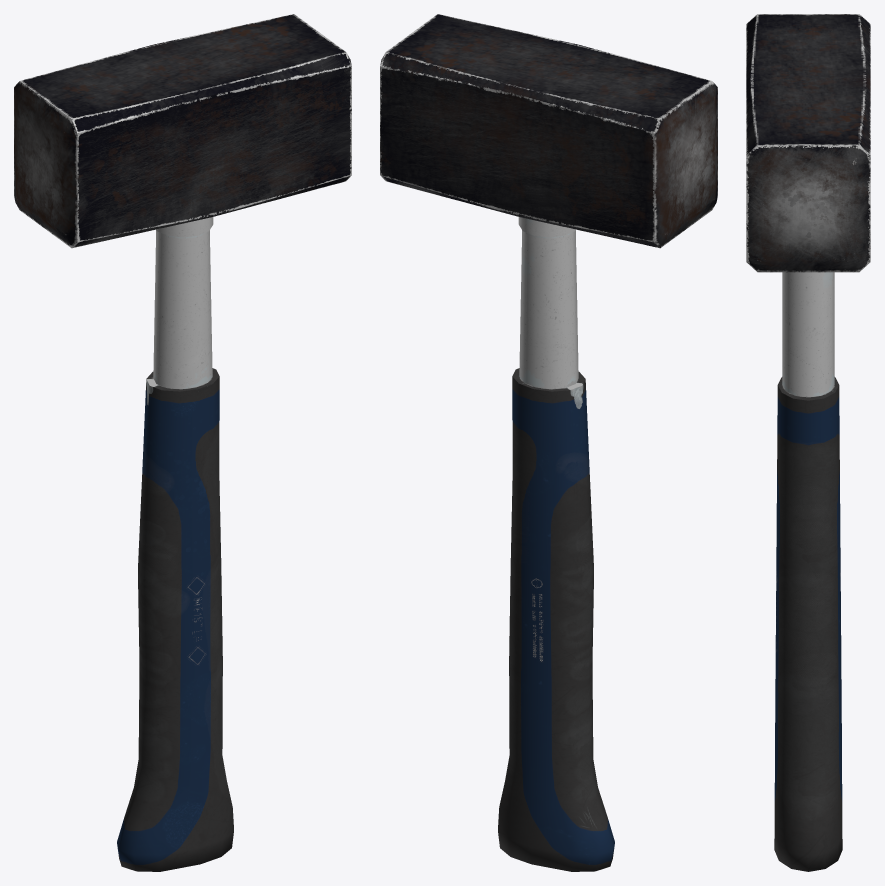
The model's file is hammer.obj.
3 renders of one model, left to right at view 1: azimuth 30°, elevation 25°; view 2: azimuth 150°, elevation 25°; view 3: azimuth 270°, elevation 25°, orthographic.
Visible parts, largest first — view 1: PlasticHandle_low_Mesh.004; view 2: PlasticHandle_low_Mesh.004; view 3: PlasticHandle_low_Mesh.004.
Boxes of the visible parts, x1,y1,x2,y2 form: PlasticHandle_low_Mesh.004: (14, 14, 351, 871); PlasticHandle_low_Mesh.004: (380, 14, 717, 871); PlasticHandle_low_Mesh.004: (746, 14, 870, 871).
Bounding box in the file's own units: 0.1039 × 0.2746 × 0.04.
1 material, 1 textured.
